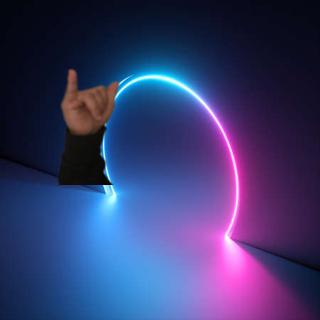HAVE: (54, 63, 123, 135)
